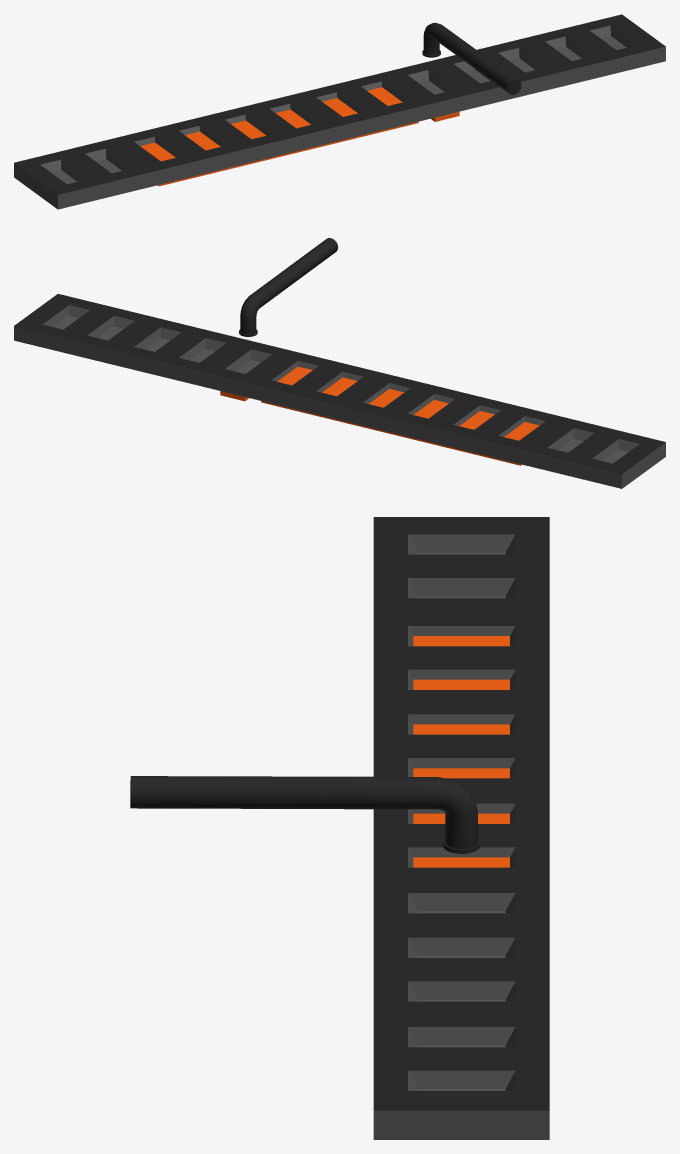
Rendered from liteo_scene_model_2.gltf.
3 views of the same model, one above another, from view 1: azimuth 30°, elevation 25°; view 2: azimuth 150°, elevation 25°; view 3: azimuth 270°, elevation 25° (orthographic). The views are drawn at different scales.
Visible parts, largest first — view 1: Куб, Куб.001, Цилиндр; view 2: Куб, Куб.001, Цилиндр; view 3: Куб, Цилиндр, Куб.001.
Boxes of the visible parts, box(x1,y1,x2,y2) form: Куб: box(14, 14, 665, 209); Куб.001: box(140, 87, 418, 186); Цилиндр: box(422, 22, 521, 94); Куб: box(14, 294, 665, 488); Куб.001: box(261, 366, 539, 465); Цилиндр: box(239, 238, 338, 336); Куб: box(373, 517, 549, 1139); Цилиндр: box(130, 776, 480, 853); Куб.001: box(413, 636, 509, 867).
Size of the model in its own units: 86.51 by 11.81 by 25.83.
